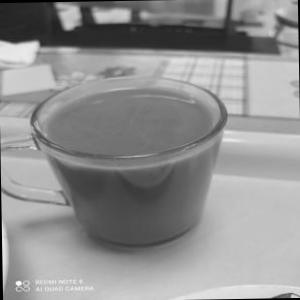coffee: (31, 53, 232, 248)
